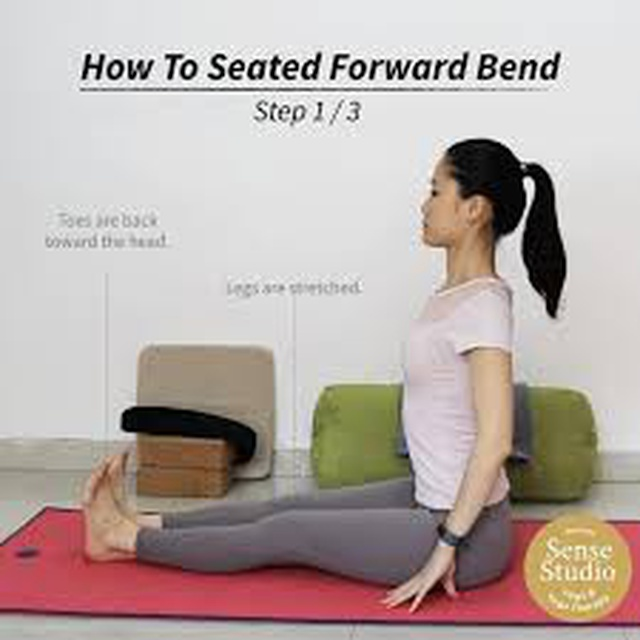Staff_Pose: (81, 136, 566, 616)
